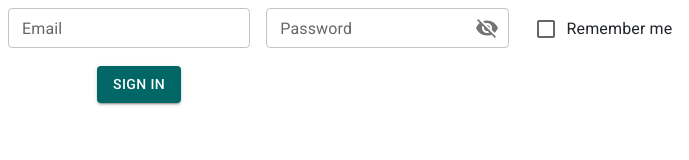
Scenario: Test input validations at login page › Input fields must not be empty
Click the button "SIGN IN".
click(139, 84)  # box [97,66,181,102]
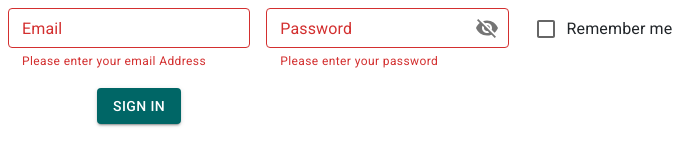
Now the text "Please enter your email Address" is shown, box [22,52,236,72]
Now the text "Please enter your password" is shown, box [280,54,438,68]
